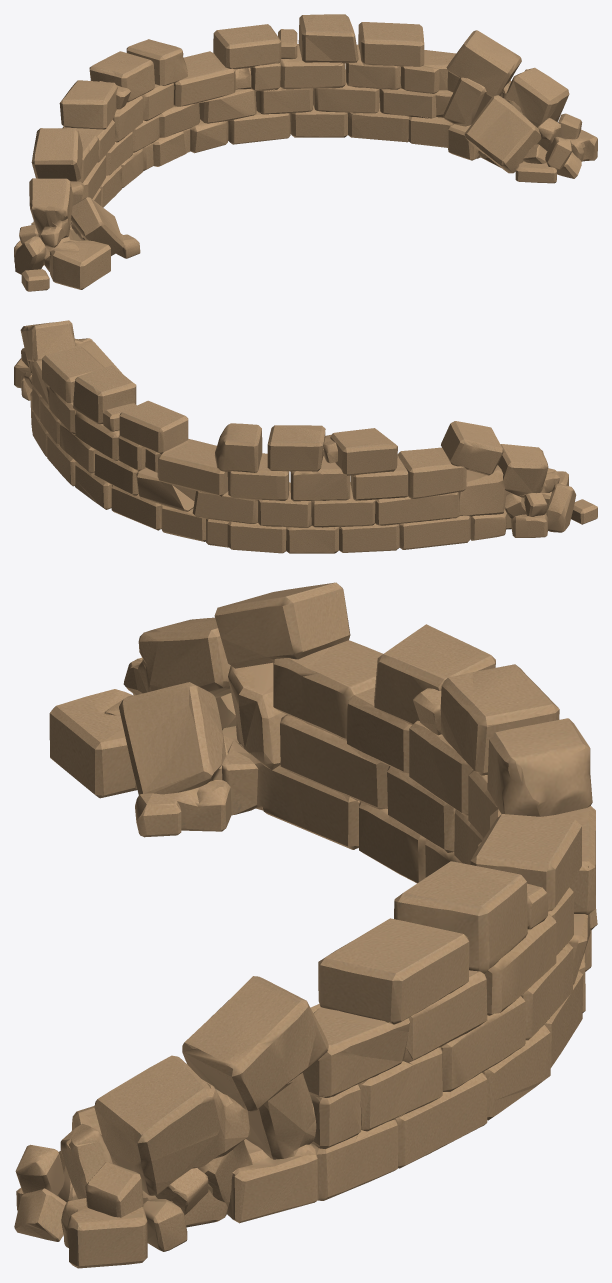
File: cover_arc.glb
3 views of the same model, one above another, from view 1: azimuth 30°, elevation 25°; view 2: azimuth 150°, elevation 25°; view 3: azimuth 270°, elevation 25° (orthographic). The views are drawn at different scales.
Bounding box in the file's own units: 1.9 × 0.3562 × 0.8489.
1 material, 1 textured.
